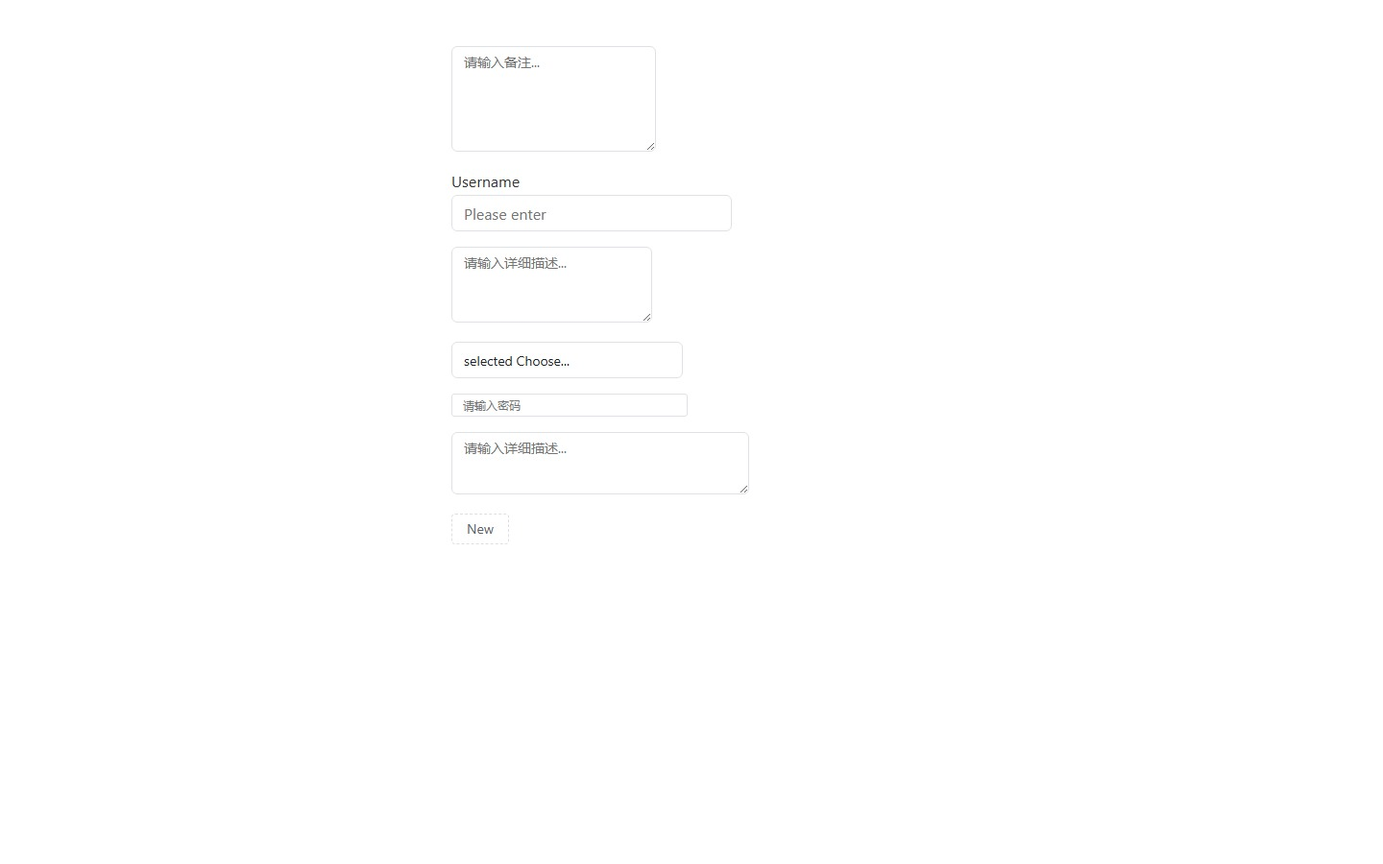button: (451, 514, 509, 544)
input: (451, 195, 732, 231), (451, 394, 688, 417)
select: (451, 342, 683, 378)
textarea: (451, 46, 656, 152), (451, 432, 749, 494), (451, 247, 652, 323)
